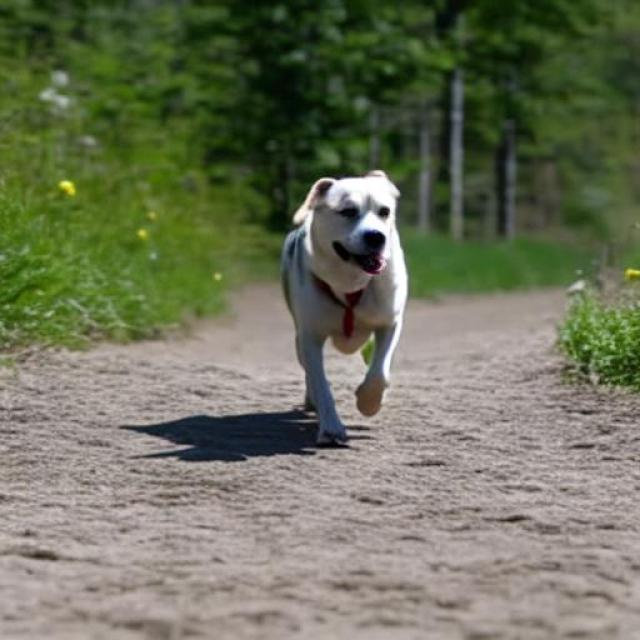Dog: (280, 170, 408, 446)
